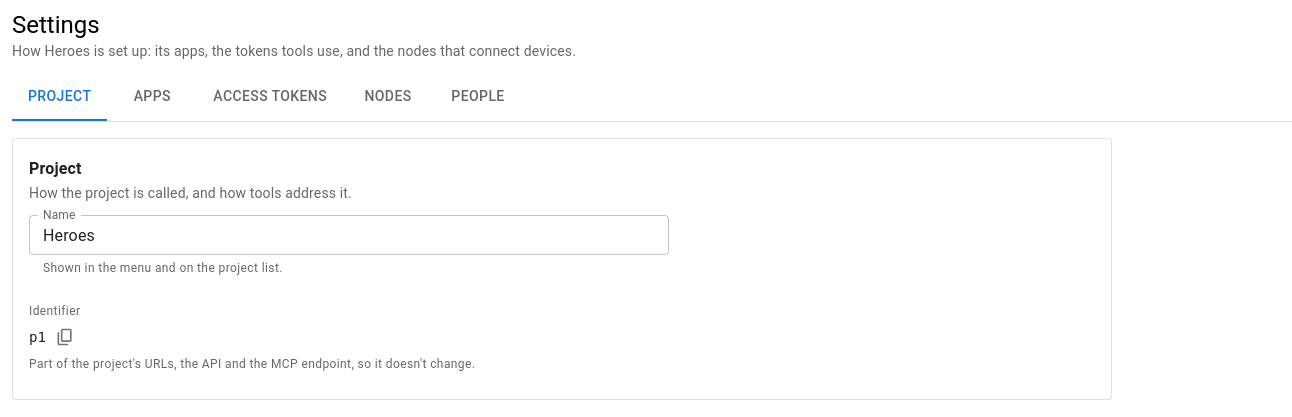
Test case: SettingsPage tabs: loads the People tab when it is picked
The width and height of the screenshot is (1292, 417).
Click the tab "People".
click(478, 97)  # box [433,73,523,121]
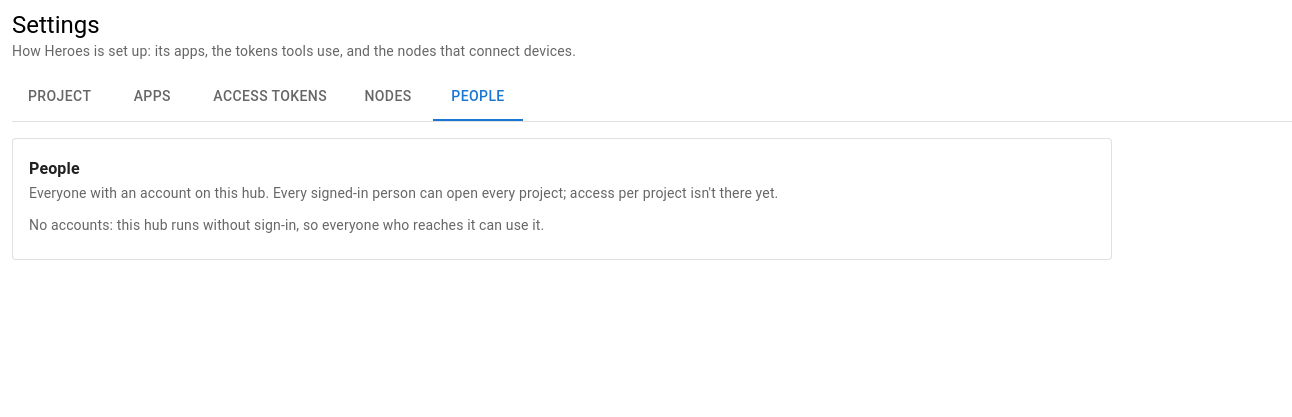
expect the text "Everyone with an account" is shown: met, box [29,185,778,201]
